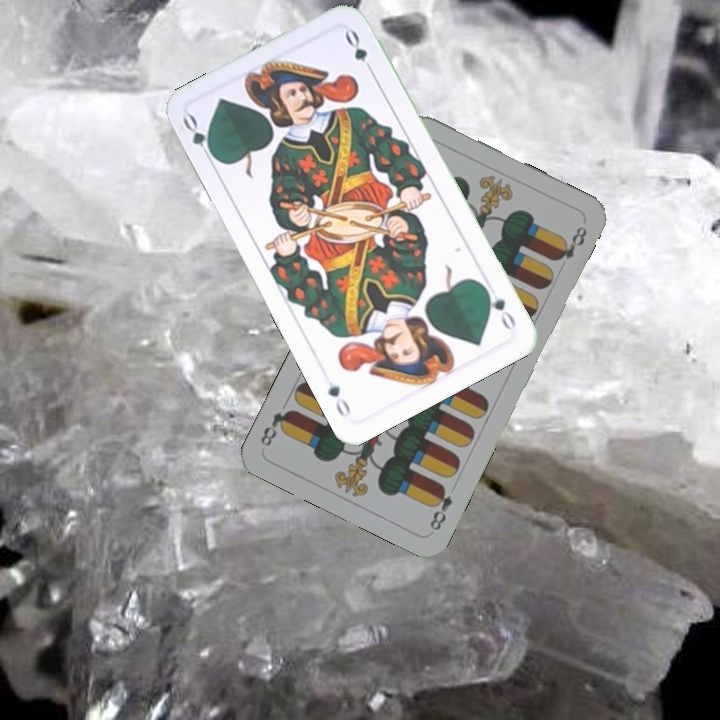E8: (425, 481, 455, 534)
GO: (178, 110, 220, 166), (479, 282, 519, 334)
